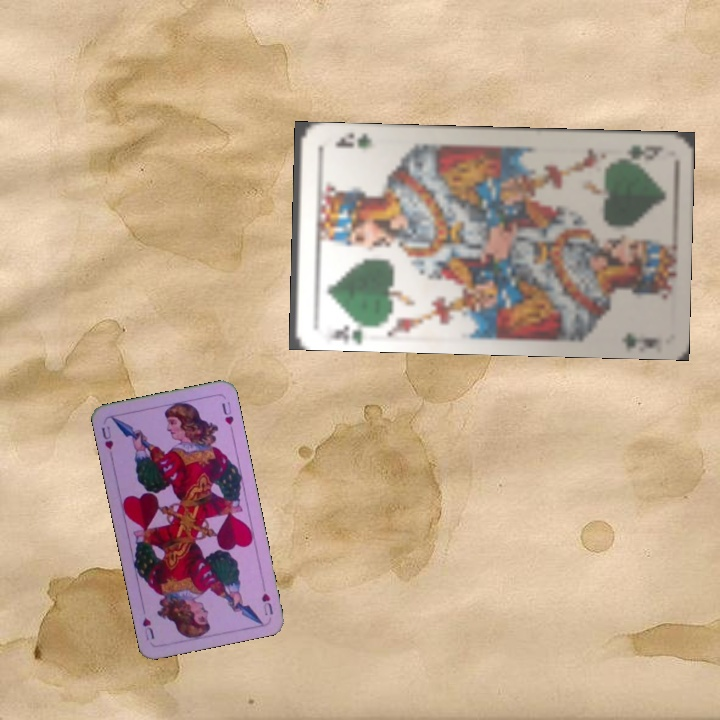GK: (326, 316, 373, 343), (622, 141, 666, 163)
HU: (97, 422, 116, 452), (257, 589, 276, 618)
